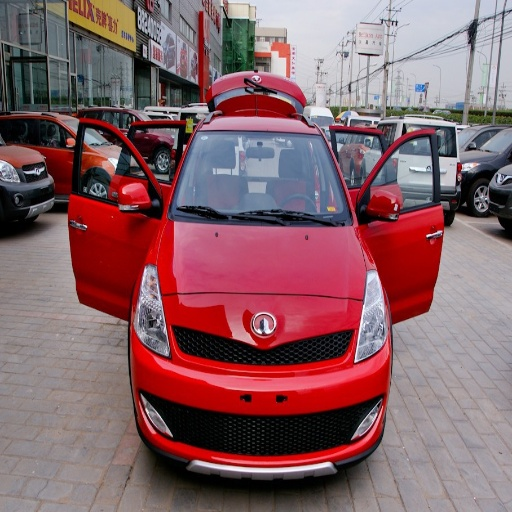front_bumper: (135, 294, 390, 472)
front_left_light: (355, 271, 390, 360)
front_right_door: (82, 128, 160, 272)
front_right_light: (133, 268, 169, 356)
hood: (167, 222, 368, 298)
